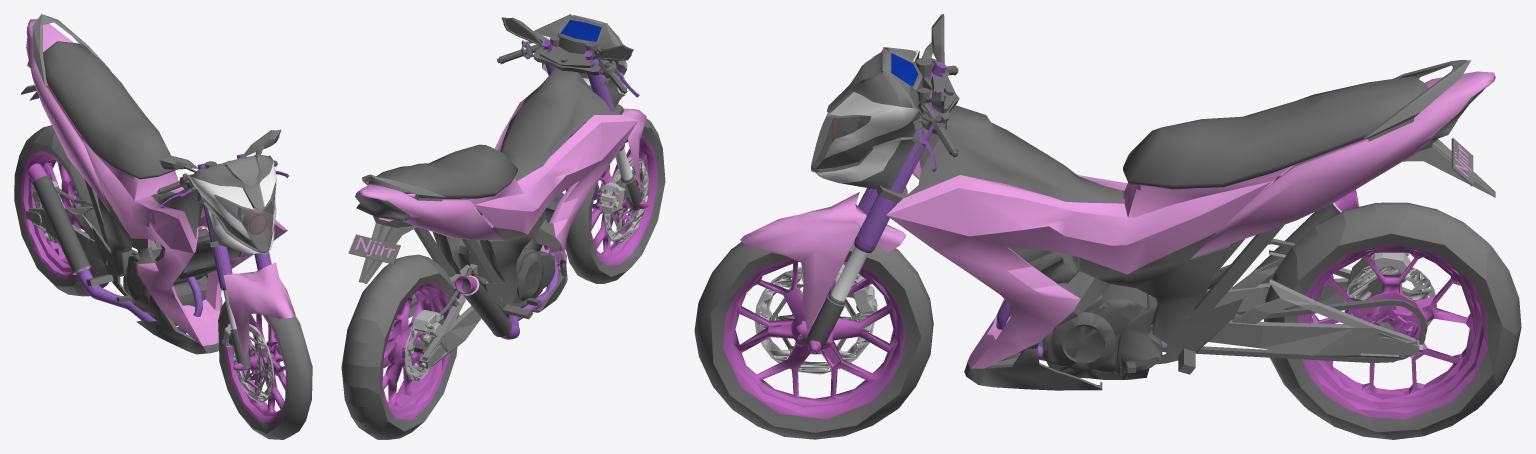
File: sonic.glb
The picture shows the model from 3 angles, left to right: view 1: azimuth 30°, elevation 25°; view 2: azimuth 150°, elevation 25°; view 3: azimuth 270°, elevation 25°; orthographic projection. The views are drawn at different scales.
Parts seen in each view (by area): view 1: body, wheelF, wheelR; view 2: body, wheelR, wheelF; view 3: body, wheelR, wheelF.
Boxes of the visible parts, <box> form: body: <box>21,14,295,370</box>; wheelF: <box>218,301,312,439</box>; wheelR: <box>14,125,119,296</box>; body: <box>348,14,646,368</box>; wheelR: <box>341,254,459,439</box>; wheelF: <box>565,118,665,283</box>; body: <box>740,14,1495,390</box>; wheelR: <box>1264,202,1521,439</box>; wheelF: <box>694,227,933,439</box>.
Size of the model in its own units: 0.5373 by 1.04 by 2.03.
